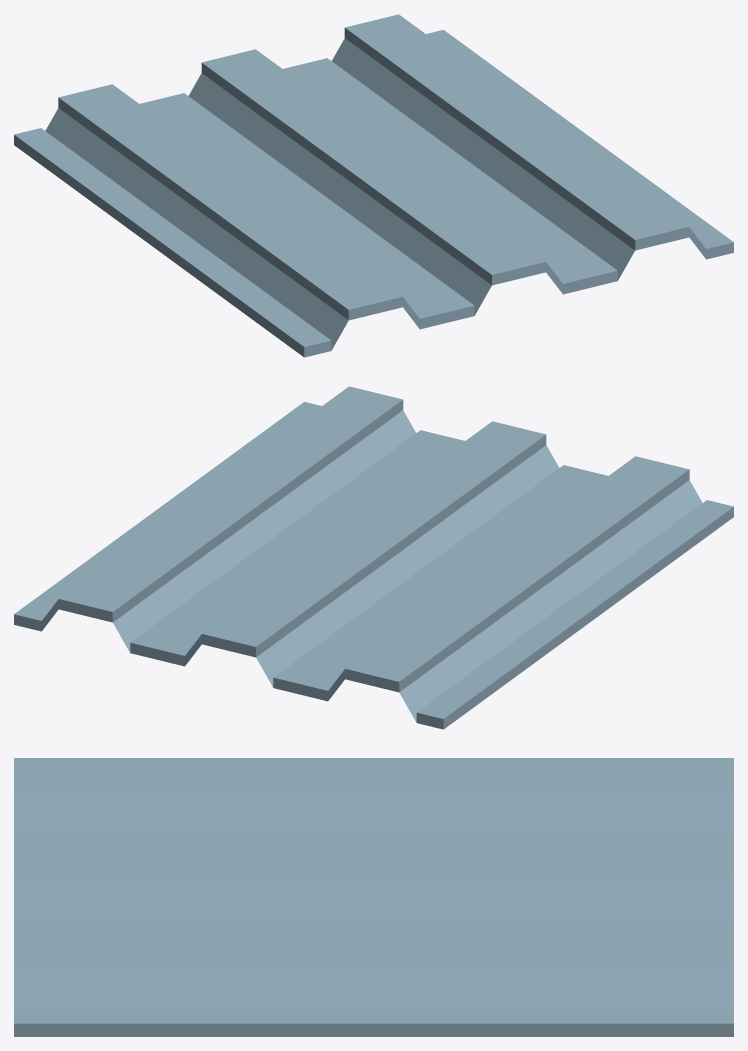
The model's file is sheet_of_metal_1.fbx.
3 views of the same model, one above another, from view 1: azimuth 30°, elevation 25°; view 2: azimuth 150°, elevation 25°; view 3: azimuth 270°, elevation 25° (orthographic). The views are drawn at different scales.
Visible parts, largest first — view 1: SheetOfMetal; view 2: SheetOfMetal; view 3: SheetOfMetal.
Part boxes in pixels (x1,y1,x2,y2): SheetOfMetal: [14, 14, 733, 357]; SheetOfMetal: [14, 386, 733, 729]; SheetOfMetal: [14, 758, 733, 1036].
Size of the model in its own units: 1.71 by 0.14 by 2.
